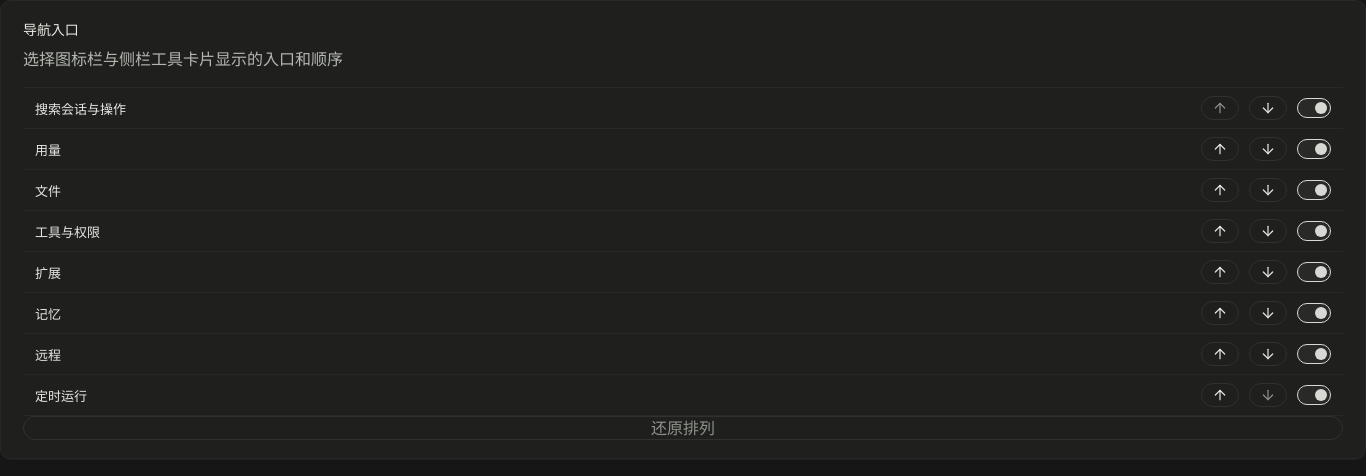
Test: restores the arrangement, and offers that only after a change
The width and height of the screenshot is (1366, 476).
Expected: the button "还原排列" is disabled, x1=23 y1=416 x2=1343 y2=440
What coordinates should you click on to do the following:
click the switch named "显示：文件"
I would click on:
 (1314, 190)
Its box is x1=1297 y1=180 x2=1331 y2=200.
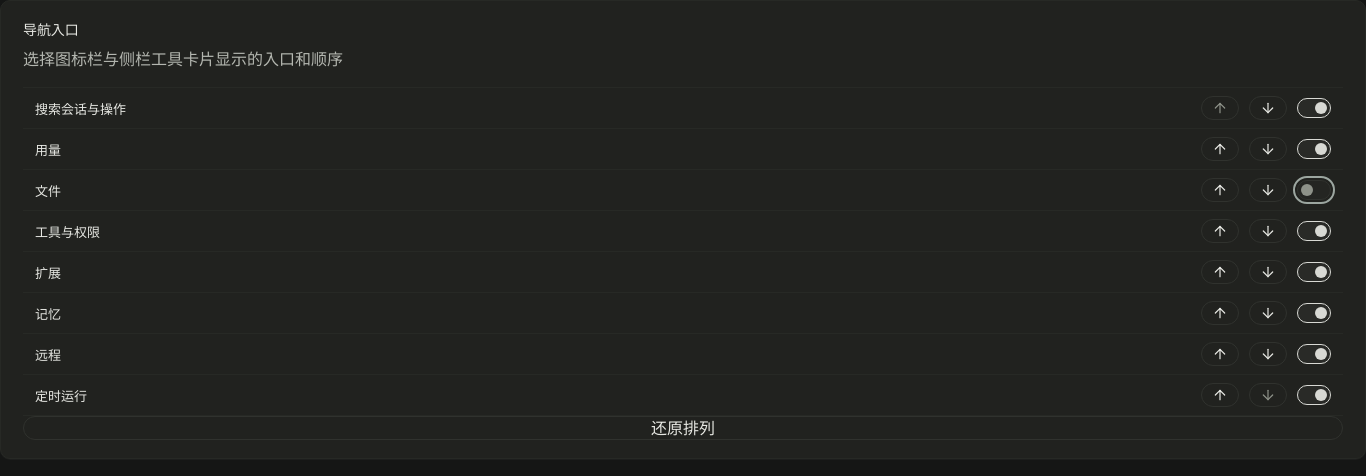
Expected: the button "还原排列" is enabled
What coordinates should you click on to do the following:
click the button "还原排列"
I would click on:
 (683, 428)
Its box is x1=23 y1=416 x2=1343 y2=440.
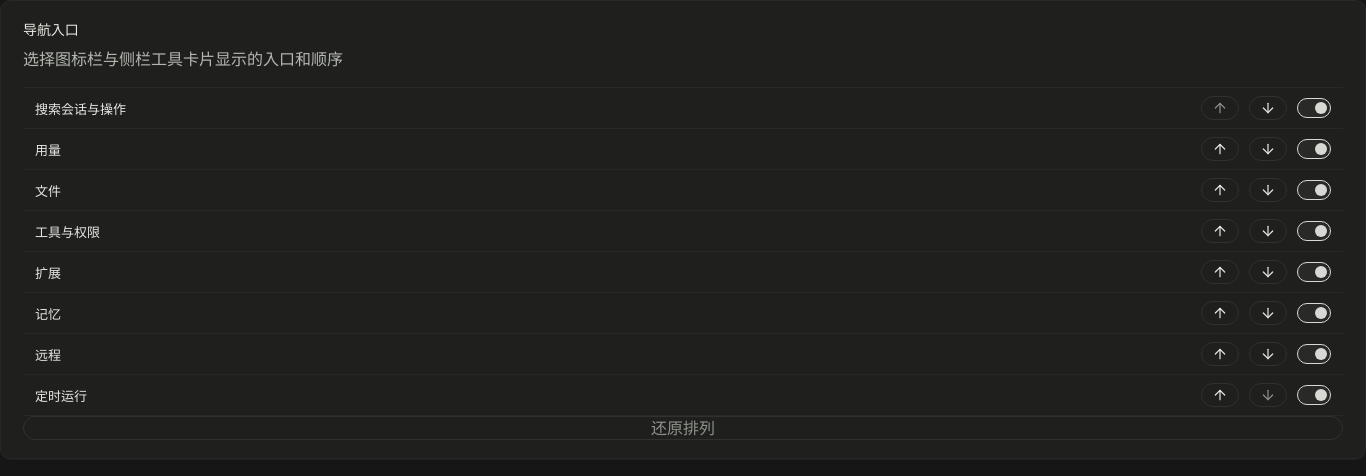
Expected: the button "还原排列" is disabled, x1=23 y1=416 x2=1343 y2=440
